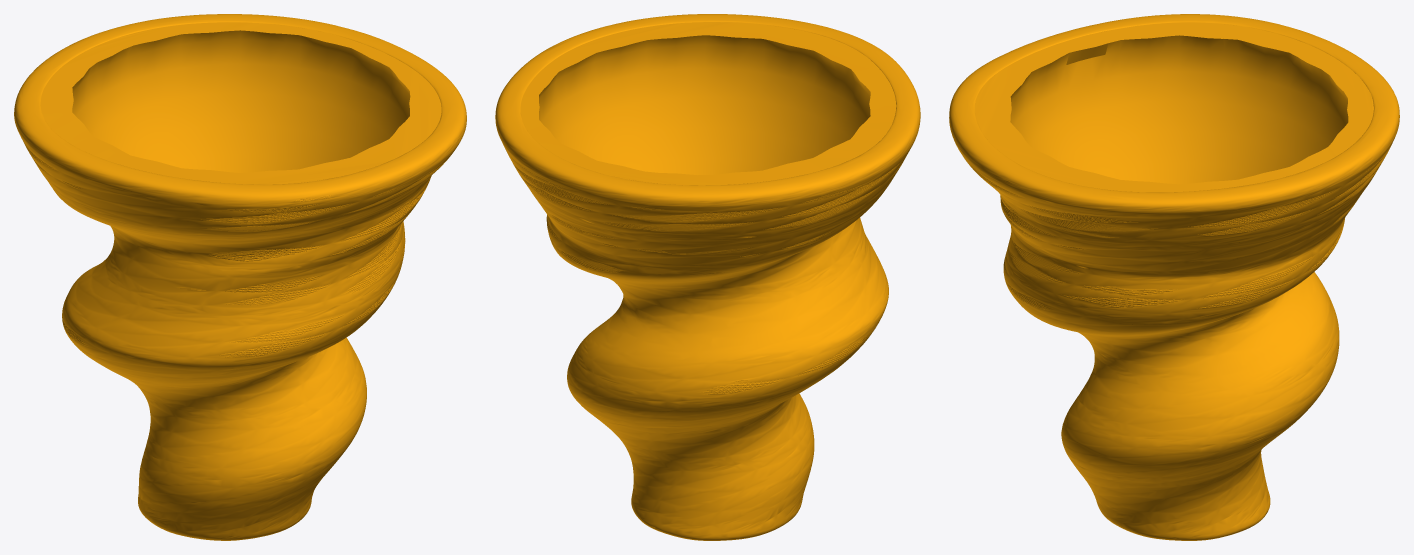
Rendered from Tornado.FBX.
3 renders of one model, left to right at view 1: azimuth 30°, elevation 25°; view 2: azimuth 150°, elevation 25°; view 3: azimuth 270°, elevation 25°, orthographic.
Visible parts, largest first — view 1: Tornado; view 2: Tornado; view 3: Tornado.
Boxes of the visible parts, x1=… form: Tornado: x1=14, y1=14, x2=466, y2=540; Tornado: x1=495, y1=14, x2=920, y2=540; Tornado: x1=949, y1=14, x2=1399, y2=540.
Bounding box in the file's own units: 104 × 107 × 106.
